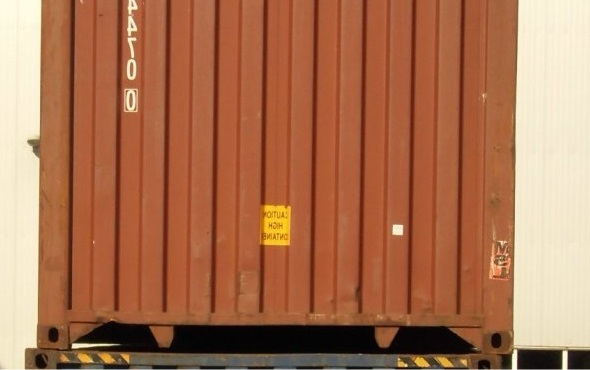container_no_door: (35, 1, 520, 350)
